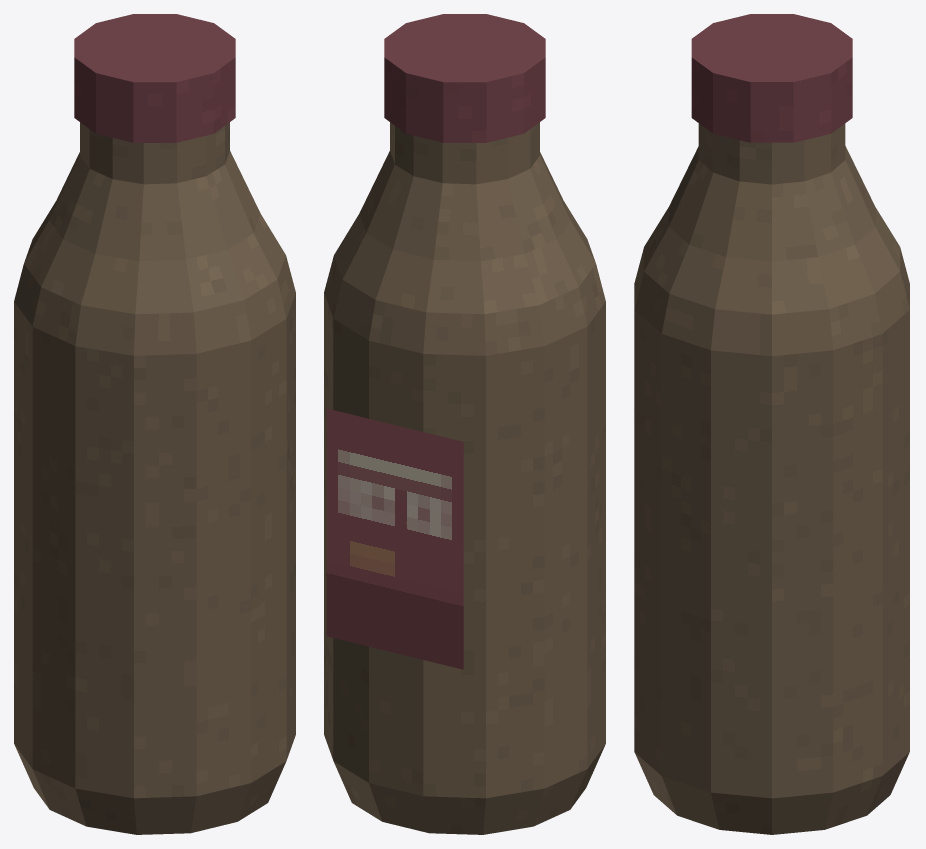
File: fruit_wine.glb
3 views of the same model, side by side, from view 1: azimuth 30°, elevation 25°; view 2: azimuth 150°, elevation 25°; view 3: azimuth 270°, elevation 25° (orthographic).
Visible parts, largest first — view 1: block_bottle silhouette, block_foil cap; view 2: block_bottle silhouette, block_drink label, block_foil cap; view 3: block_bottle silhouette, block_foil cap.
Part boxes in pixels (x1,y1,x2,y2): block_bottle silhouette: (14, 122, 295, 834); block_foil cap: (74, 14, 235, 142); block_bottle silhouette: (324, 122, 605, 834); block_drink label: (326, 408, 463, 669); block_foil cap: (384, 14, 545, 142); block_bottle silhouette: (634, 123, 909, 834); block_foil cap: (691, 14, 852, 142).
Bounding box in the file's own units: 0.057 × 0.1638 × 0.0559.
1 material, 1 textured.
